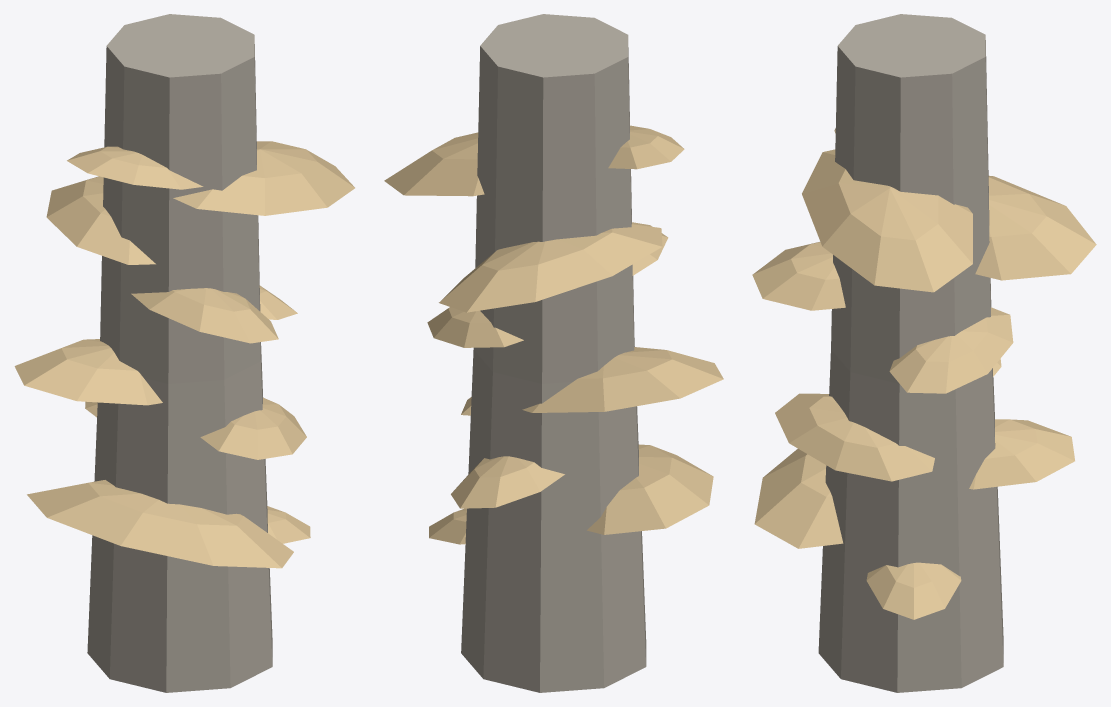
File: temperate-forest-ecology-bracket-fungus-log-a08931e1__3869.glb
3 views of the same model, side by side, from view 1: azimuth 30°, elevation 25°; view 2: azimuth 150°, elevation 25°; view 3: azimuth 270°, elevation 25° (orthographic).
Parts seen in each view (by area): view 1: bracket-fungus-log; view 2: bracket-fungus-log; view 3: bracket-fungus-log.
Part boxes in pixels (x1=…): bracket-fungus-log: x1=14, y1=14, x2=354, y2=692; bracket-fungus-log: x1=384, y1=14, x2=723, y2=692; bracket-fungus-log: x1=752, y1=14, x2=1096, y2=692.
Bounding box in the file's own units: 1.18 × 2.1 × 1.08.
